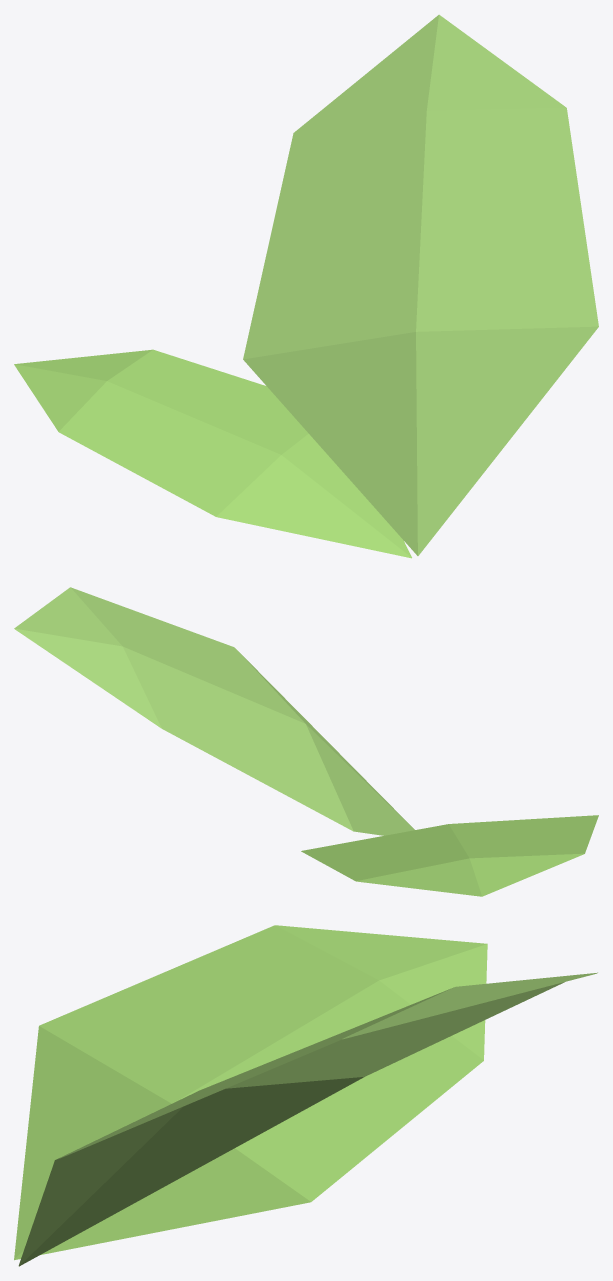
File: Plant_h_TwoS_02.fbx
3 renders of one model, top to bottom at view 1: azimuth 30°, elevation 25°; view 2: azimuth 150°, elevation 25°; view 3: azimuth 270°, elevation 25°, orthographic. The views are drawn at different scales.
Parts seen in each view (by area): view 1: Plant_h_TwoS_02; view 2: Plant_h_TwoS_02; view 3: Plant_h_TwoS_02.
Part boxes in pixels (x1,y1,x2,y2): Plant_h_TwoS_02: (14, 14, 598, 558); Plant_h_TwoS_02: (14, 587, 598, 896); Plant_h_TwoS_02: (14, 925, 597, 1266).
Bounding box in the file's own units: 0.3174 × 0.1876 × 0.2212.
